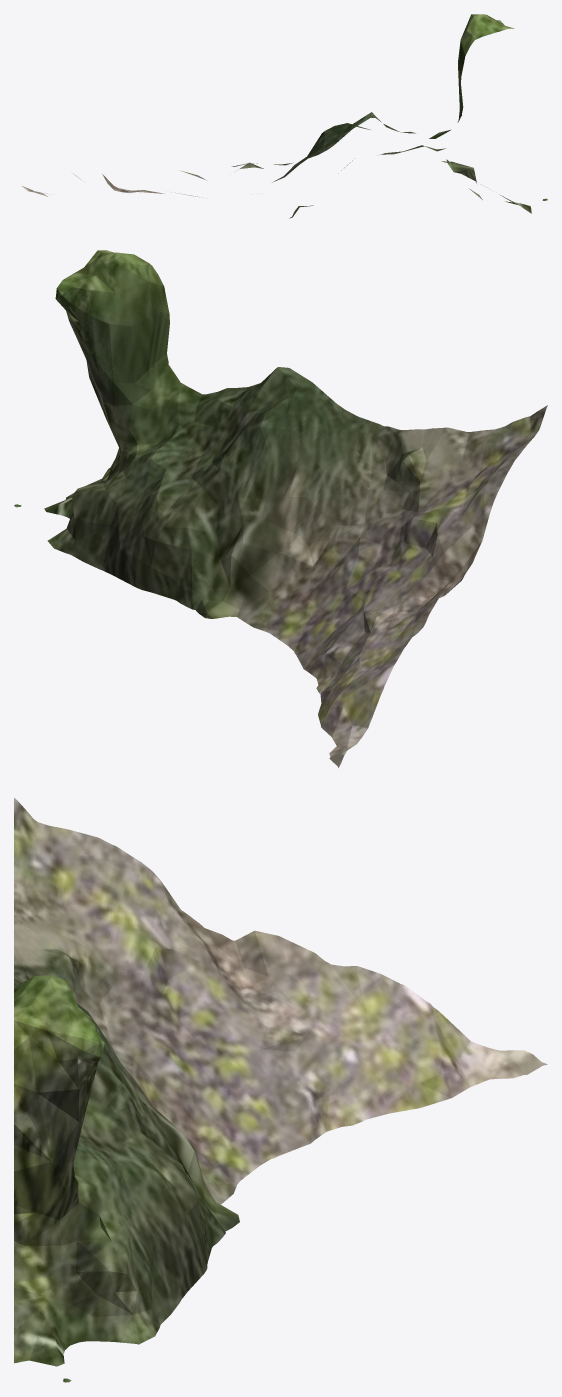
The picture shows the model from 3 angles, top to bottom: view 1: azimuth 30°, elevation 25°; view 2: azimuth 150°, elevation 25°; view 3: azimuth 270°, elevation 25°; orthographic projection. The views are drawn at different scales.
Bounding box in the file's own units: 2.91 × 1.47 × 2.07.
Materials: 2 (2 with a texture image).
